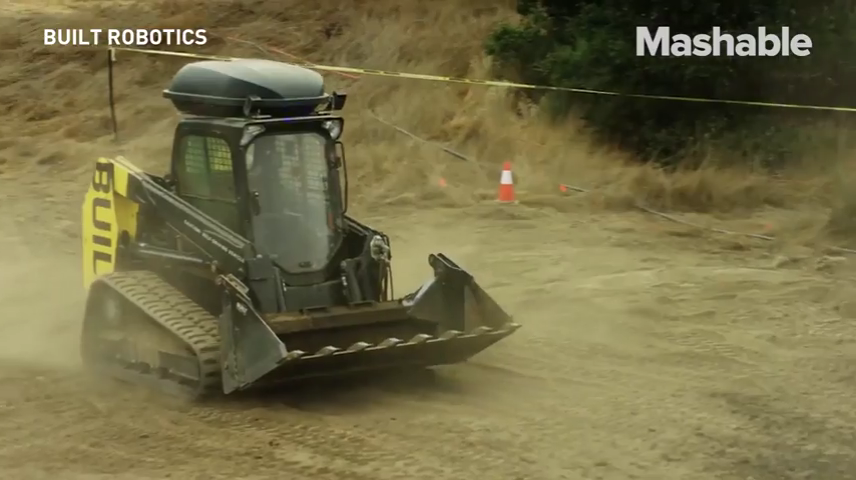con_eq: (74, 39, 535, 406)
